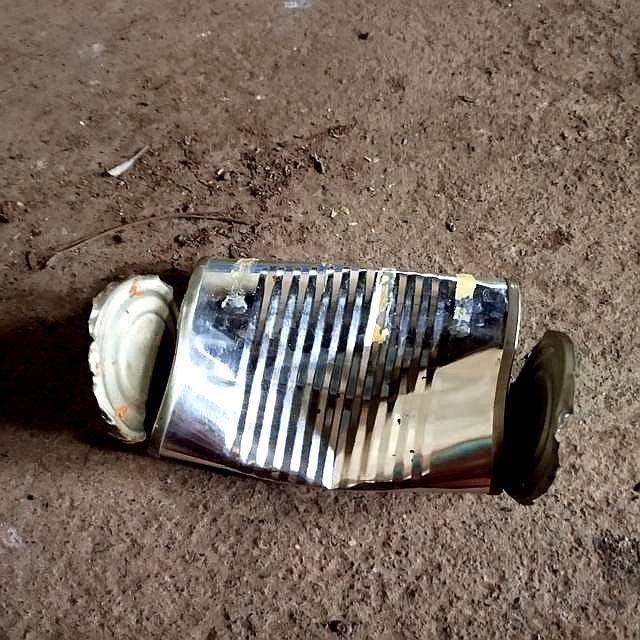Non-biodegradable: (83, 261, 582, 510)
